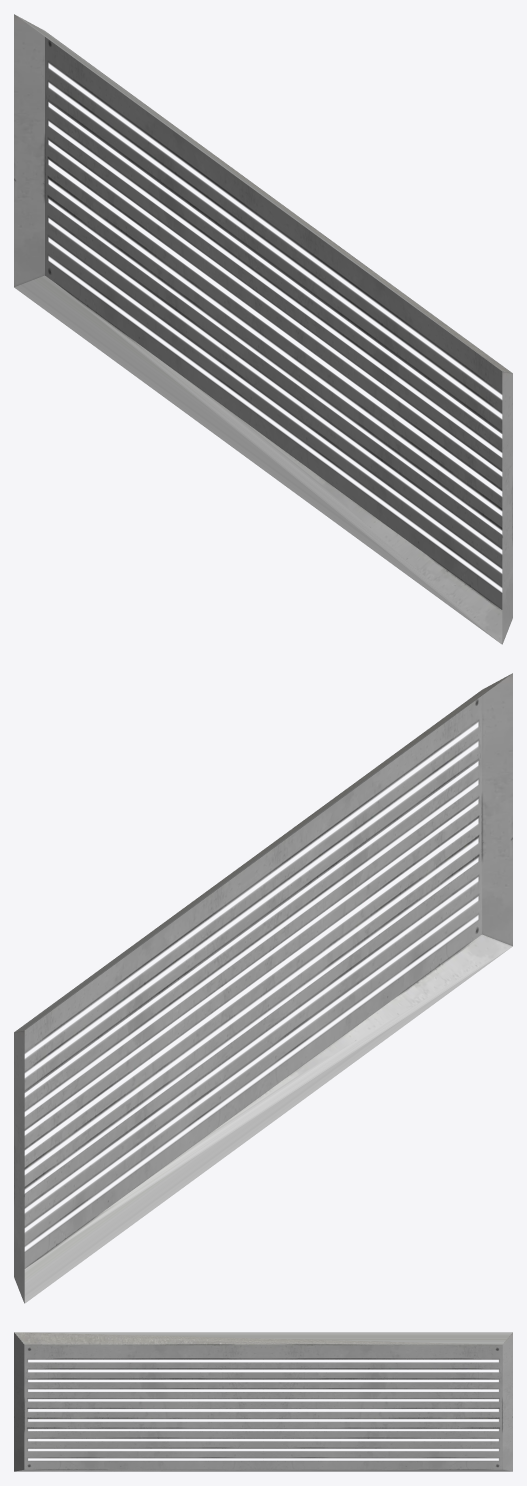
Rendered from ventilation_grill.glb.
The picture shows the model from 3 angles, top to bottom: view 1: azimuth 30°, elevation 25°; view 2: azimuth 150°, elevation 25°; view 3: azimuth 270°, elevation 25°; orthographic projection. The views are drawn at different scales.
Parts seen in each view (by area): view 1: Object_2; view 2: Object_2; view 3: Object_2.
Part boxes in pixels (x1,y1,x2,y2): Object_2: [14, 14, 512, 644]; Object_2: [14, 673, 512, 1303]; Object_2: [14, 1332, 512, 1471].
Size of the model in its own units: 0.238 by 2.99 by 9.7.
1 material, 1 textured.
